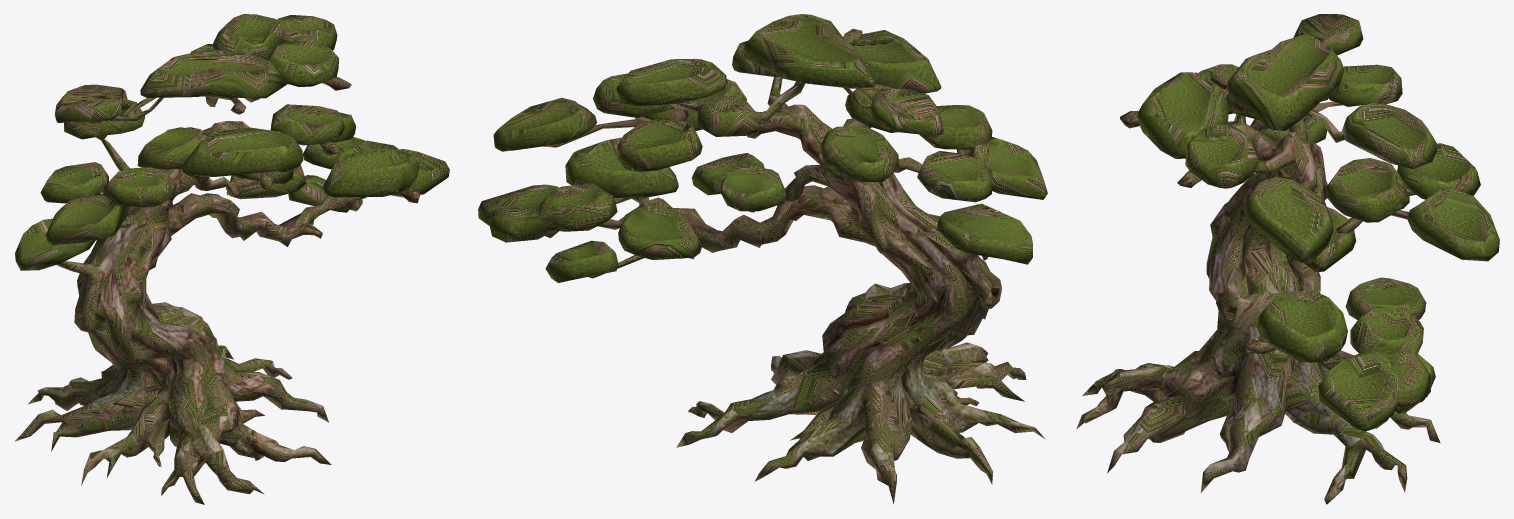
Rendered from prop_thong_co.18342bfe51.glb.
The picture shows the model from 3 angles, left to right: view 1: azimuth 30°, elevation 25°; view 2: azimuth 150°, elevation 25°; view 3: azimuth 270°, elevation 25°; orthographic projection. The views are drawn at different scales.
Parts seen in each view (by area): view 1: prop_thong_co; view 2: prop_thong_co; view 3: prop_thong_co.
Boxes of the visible parts, bbox=[...] form: prop_thong_co: bbox=[14, 14, 449, 504]; prop_thong_co: bbox=[478, 14, 1047, 504]; prop_thong_co: bbox=[1076, 14, 1499, 504].
Size of what is drawn, in the model's own units: 19.23 by 13.96 by 13.43.
Materials: 1 (1 with a texture image).
